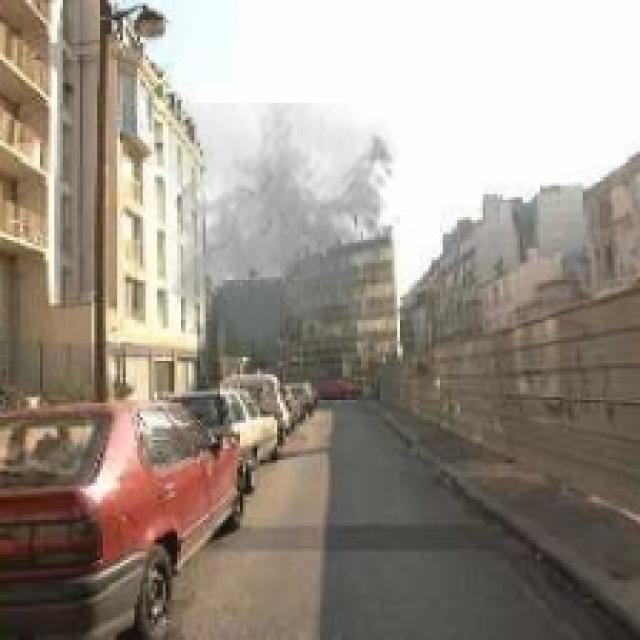smoke: (169, 103, 400, 366)
